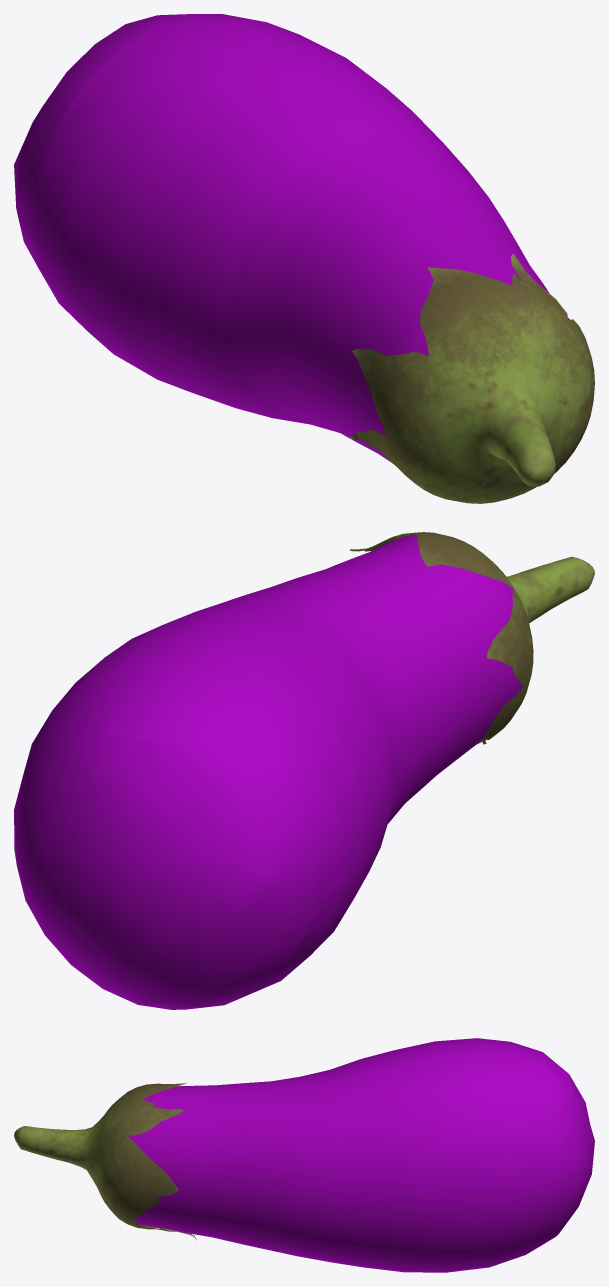
Rendered from eggplant.fbx.
3 renders of one model, top to bottom at view 1: azimuth 30°, elevation 25°; view 2: azimuth 150°, elevation 25°; view 3: azimuth 270°, elevation 25°, orthographic. The views are drawn at different scales.
Parts seen in each view (by area): view 1: eggplant.top, eggplant.body.012, eggplant.body.011, eggplant.body.013, eggplant.body.007, eggplant.body.014, eggplant.body.010, eggplant.body.004, eggplant.body.001, eggplant.body.016, eggplant.body; view 2: eggplant.body.015, eggplant.body.016, eggplant.body.014, eggplant.body.013, eggplant.body.004, eggplant.body.010, eggplant.top, eggplant.body.011, eggplant.body.001, eggplant.body.007, eggplant.body.012, eggplant.body; view 3: eggplant.body.013, eggplant.top, eggplant.body.014, eggplant.body.011, eggplant.body.016, eggplant.body.012, eggplant.body.007, eggplant.body.010, eggplant.body.004, eggplant.body.001, eggplant.body.015, eggplant.body.
Boxes of the visible parts, x1,y1,x2,y2 form: eggplant.top: [350, 253, 594, 503]; eggplant.body.012: [169, 94, 464, 423]; eggplant.body.011: [115, 59, 432, 413]; eggplant.body.013: [69, 32, 369, 396]; eggplant.body.007: [226, 133, 492, 432]; eggplant.body.014: [33, 17, 325, 362]; eggplant.body.010: [276, 172, 513, 440]; eggplant.body.004: [314, 208, 532, 457]; eggplant.body.001: [348, 244, 549, 463]; eggplant.body.016: [14, 14, 240, 303]; eggplant.body: [381, 277, 569, 434]; eggplant.body.015: [15, 734, 264, 1006]; eggplant.body.016: [14, 686, 313, 1009]; eggplant.body.014: [29, 652, 346, 988]; eggplant.body.013: [69, 630, 368, 947]; eggplant.body.004: [295, 562, 479, 785]; eggplant.body.010: [252, 577, 444, 816]; eggplant.top: [350, 532, 594, 744]; eggplant.body.011: [122, 614, 384, 889]; eggplant.body.001: [327, 545, 515, 768]; eggplant.body.007: [215, 591, 414, 824]; eggplant.body.012: [154, 603, 395, 858]; eggplant.body: [370, 536, 523, 698]; eggplant.body.013: [419, 1039, 462, 1272]; eggplant.top: [14, 1083, 196, 1239]; eggplant.body.014: [462, 1038, 505, 1270]; eggplant.body.011: [376, 1044, 419, 1272]; eggplant.body.016: [505, 1041, 548, 1261]; eggplant.body.012: [333, 1055, 376, 1268]; eggplant.body.007: [290, 1068, 333, 1262]; eggplant.body.010: [246, 1078, 289, 1254]; eggplant.body.004: [203, 1083, 246, 1245]; eggplant.body.001: [160, 1085, 203, 1235]; eggplant.body.015: [549, 1057, 594, 1240]; eggplant.body: [127, 1092, 159, 1227].
Size of the model in its own units: 51.83 by 51.2 by 128.
